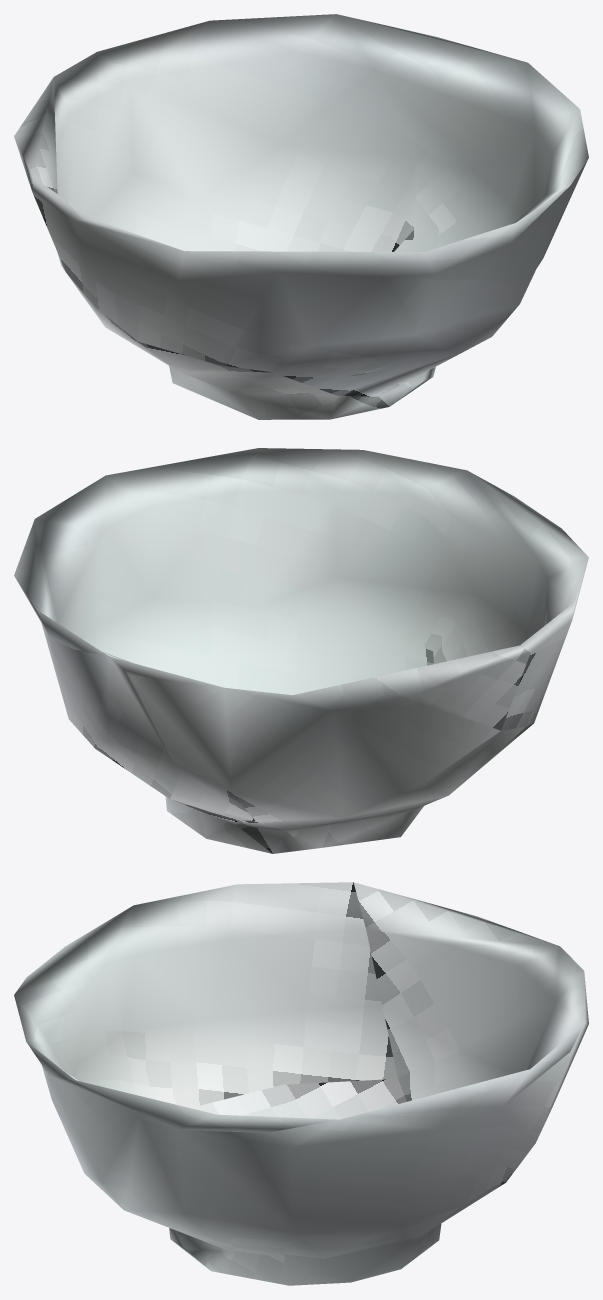
File: Calphalon_Kitchen_Essentials_12_Cast_Iron_Fry_Pan_Black-low.glb
3 views of the same model, one above another, from view 1: azimuth 30°, elevation 25°; view 2: azimuth 150°, elevation 25°; view 3: azimuth 270°, elevation 25° (orthographic).
Visible parts, largest first — view 1: Calphalon_Kitchen_Essentials_12_Cast_Iron_Fry_Pan_Black; view 2: Calphalon_Kitchen_Essentials_12_Cast_Iron_Fry_Pan_Black; view 3: Calphalon_Kitchen_Essentials_12_Cast_Iron_Fry_Pan_Black.
Boxes of the visible parts, bbox=[...] form: Calphalon_Kitchen_Essentials_12_Cast_Iron_Fry_Pan_Black: bbox=[14, 14, 588, 419]; Calphalon_Kitchen_Essentials_12_Cast_Iron_Fry_Pan_Black: bbox=[14, 448, 588, 853]; Calphalon_Kitchen_Essentials_12_Cast_Iron_Fry_Pan_Black: bbox=[14, 882, 588, 1285].
Bounding box in the file's own units: 0.3188 × 0.1439 × 0.3203.
1 material, 1 textured.
